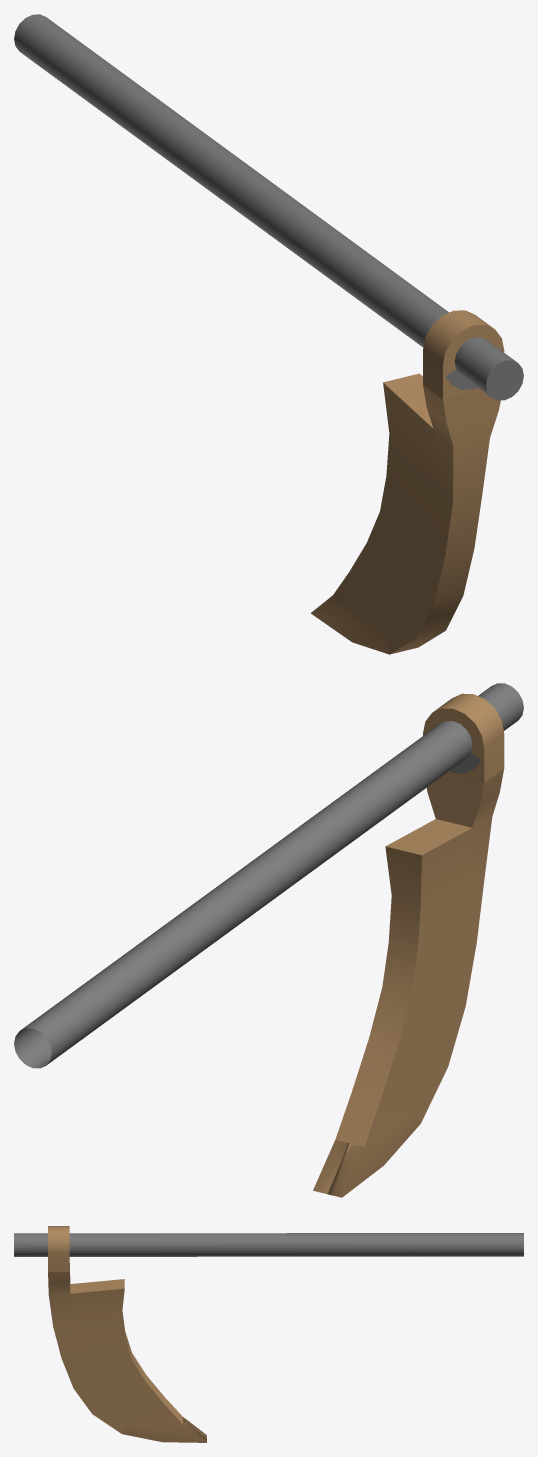
The model's file is scythe_01.fbx.
The picture shows the model from 3 angles, top to bottom: view 1: azimuth 30°, elevation 25°; view 2: azimuth 150°, elevation 25°; view 3: azimuth 270°, elevation 25°; orthographic projection. The views are drawn at different scales.
Parts seen in each view (by area): view 1: scythe_01; view 2: scythe_01; view 3: scythe_01.
Boxes of the visible parts, x1,y1,x2,y2 form: scythe_01: [14, 14, 523, 654]; scythe_01: [14, 683, 523, 1197]; scythe_01: [14, 1226, 523, 1442].
Size of the model in its own units: 6.69 by 40.93 by 89.38.
